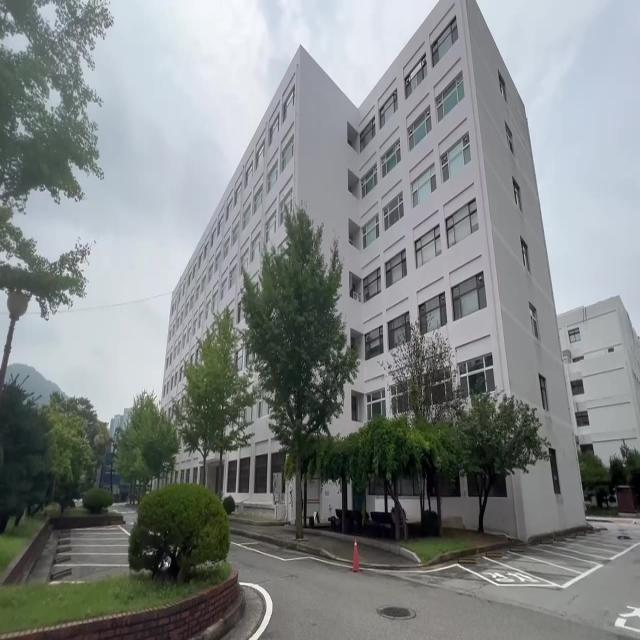building: (344, 12, 564, 350)
